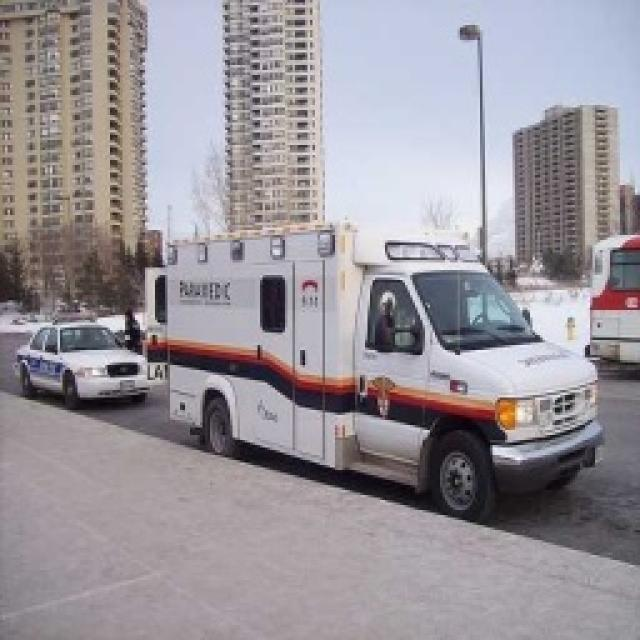emergency-vehicle: (159, 225, 607, 529)
